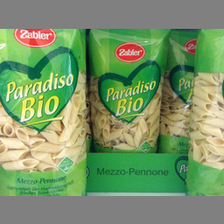pasta: (1, 29, 88, 195), (88, 30, 171, 152), (188, 30, 224, 196)
